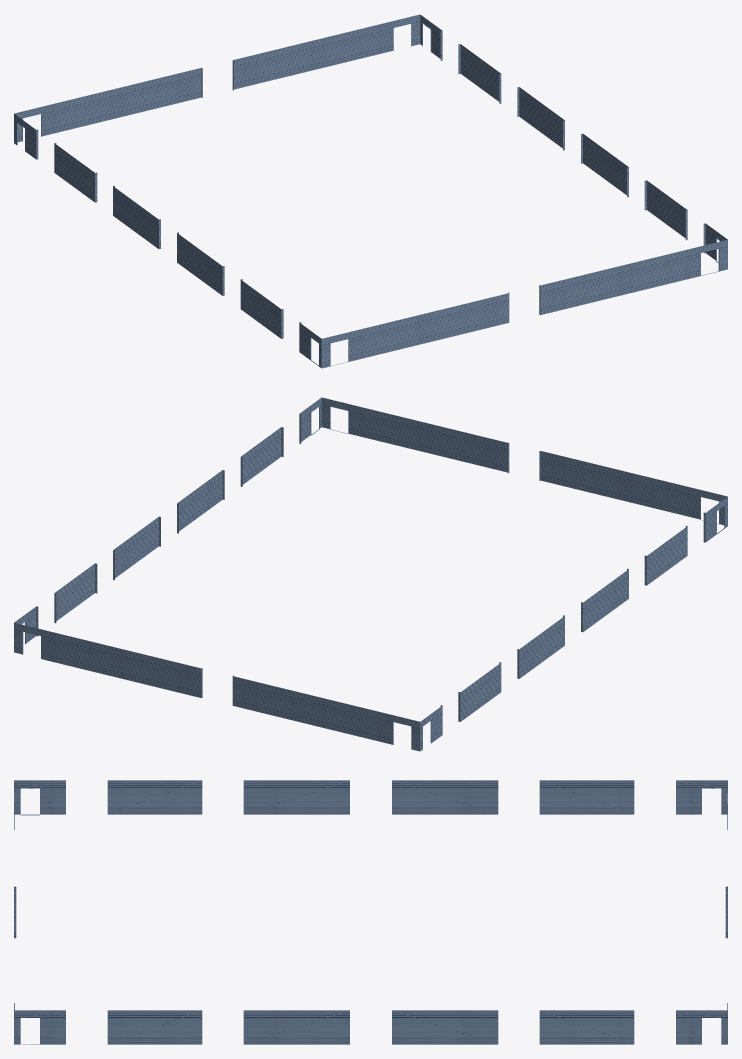
Rendered from wall2.gltf.
The picture shows the model from 3 angles, top to bottom: view 1: azimuth 30°, elevation 25°; view 2: azimuth 150°, elevation 25°; view 3: azimuth 270°, elevation 25°; orthographic projection. The views are drawn at different scales.
Visible parts, largest first — view 1: L2_WaiQiang_2; view 2: L2_WaiQiang_2; view 3: L2_WaiQiang_2.
Part boxes in pixels (x1,y1,x2,y2): L2_WaiQiang_2: [14, 14, 727, 368]; L2_WaiQiang_2: [14, 397, 727, 751]; L2_WaiQiang_2: [14, 780, 727, 1044].
Size of the model in its own units: 26.26 by 1.84 by 34.46.
1 material, 1 textured.
